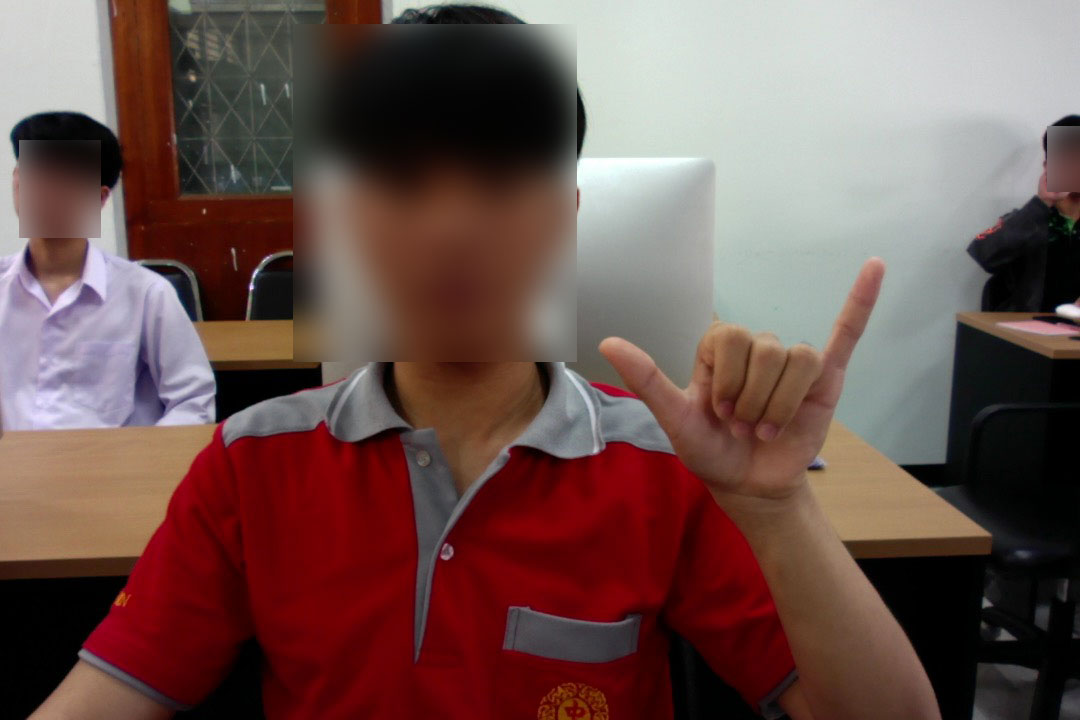yor: (589, 246, 900, 512)
